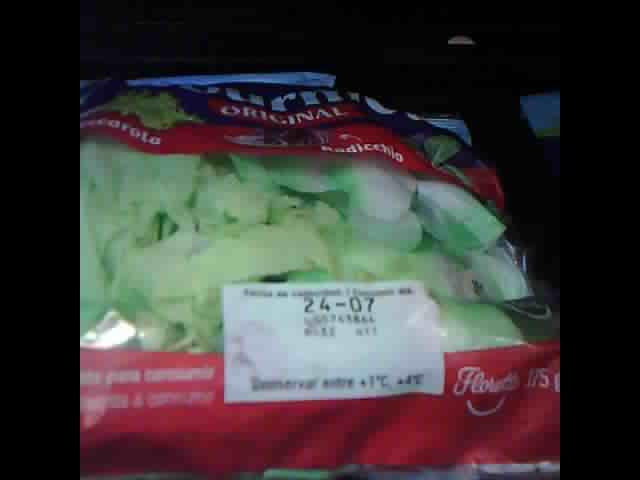florette: (82, 65, 559, 478)
